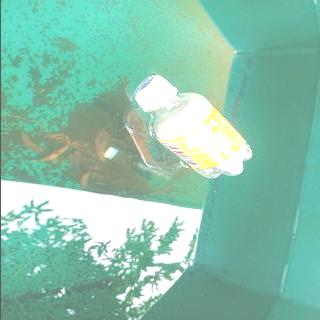bottle: (132, 74, 254, 178)
